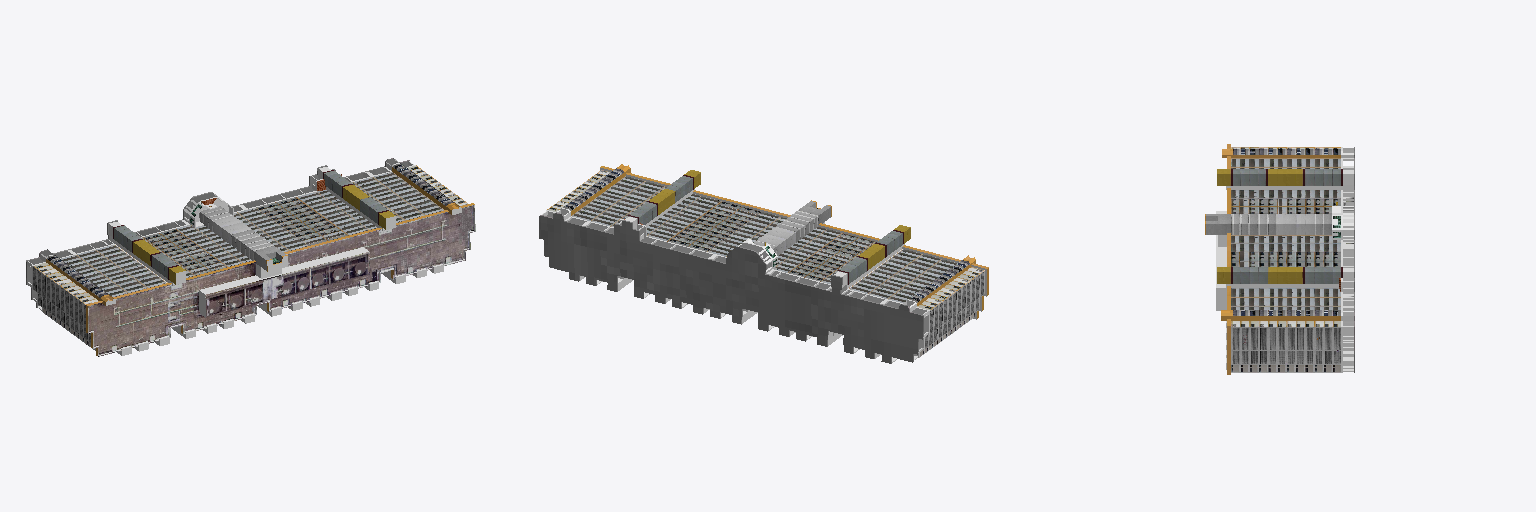
3 renders of one model, left to right at view 1: azimuth 30°, elevation 25°; view 2: azimuth 150°, elevation 25°; view 3: azimuth 270°, elevation 25°, orthographic.
Parts seen in each view (by area): view 1: polygon.816; view 2: polygon.816; view 3: polygon.816.
Part boxes in pixels (bbox=[...]): polygon.816: bbox=[26, 158, 475, 356]; polygon.816: bbox=[539, 164, 988, 363]; polygon.816: bbox=[1205, 144, 1354, 374].
Bounding box in the file's own units: 123 × 24.85 × 41.27.
1 materials, 1 textured.